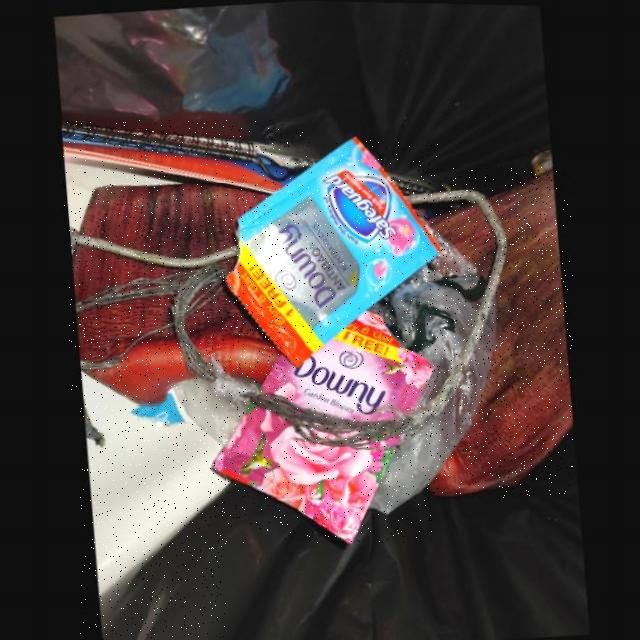biowaste: (428, 167, 573, 497), (69, 183, 280, 405), (424, 203, 496, 280)
paper: (81, 373, 226, 637), (61, 120, 304, 232)
wrapper: (212, 311, 433, 543), (227, 140, 441, 369)
